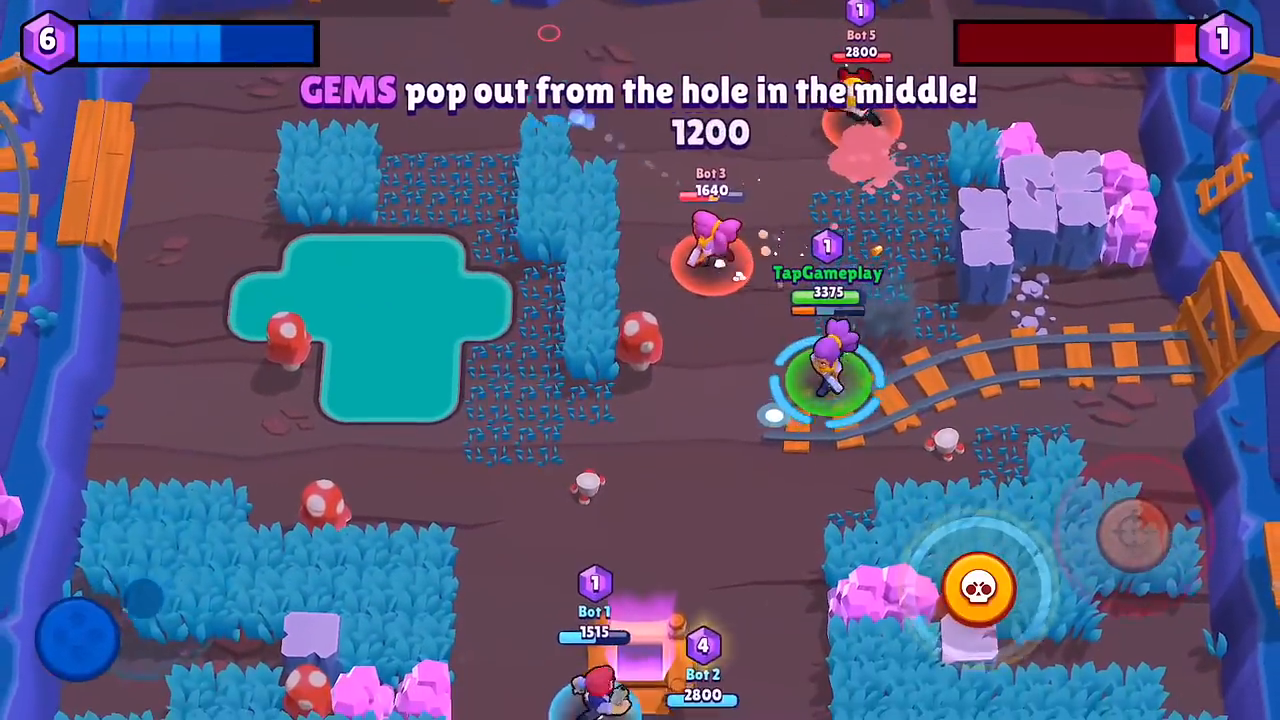move_stick: (35, 603, 116, 673)
red: (820, 34, 916, 165), (664, 176, 761, 297)
